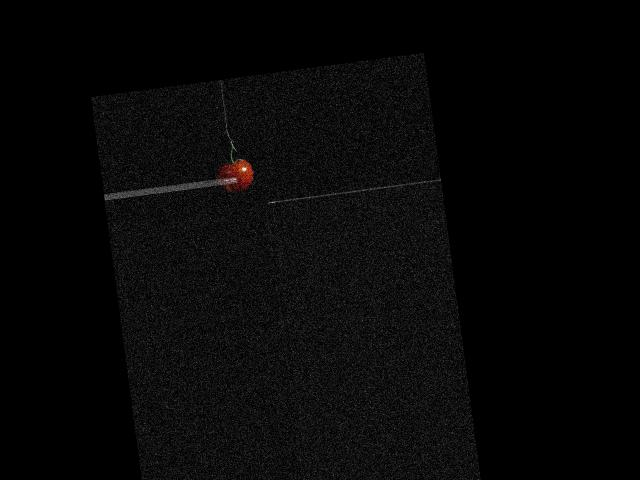tomato: (216, 158, 254, 192)
